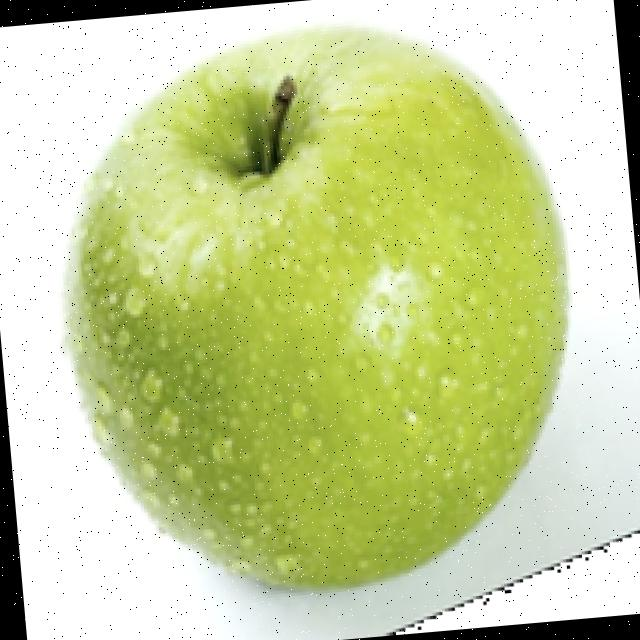apple: (55, 18, 572, 639)
